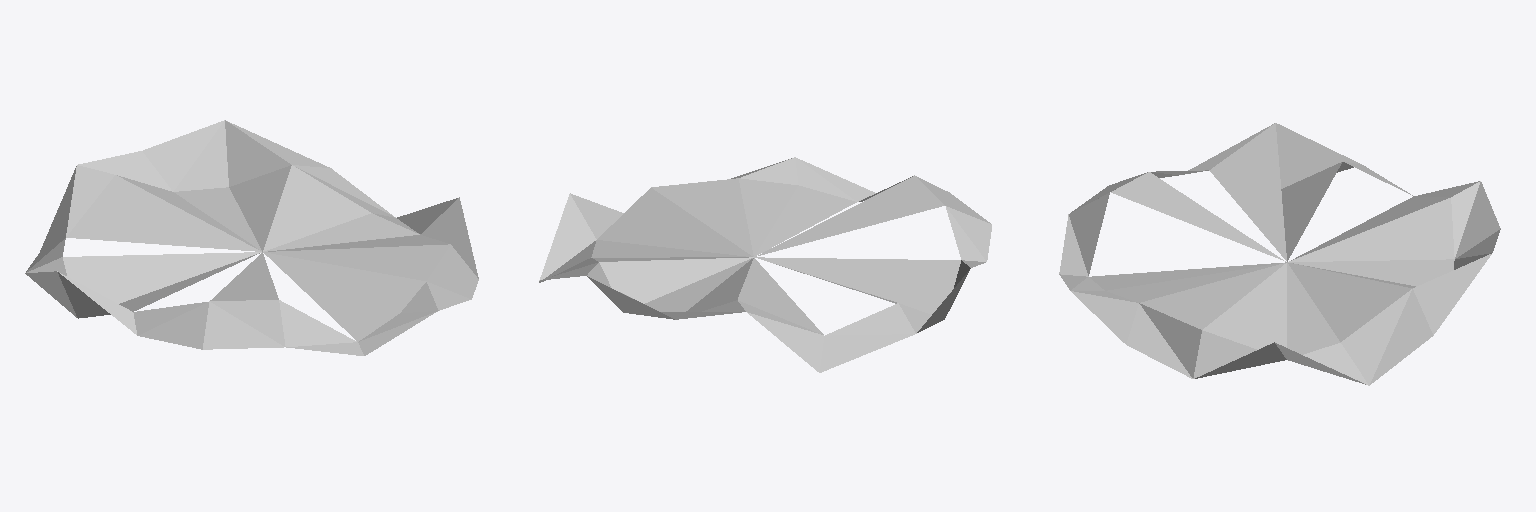
Rendered from Circle Gaps soft.obj.
The picture shows the model from 3 angles: view 1: azimuth 30°, elevation 25°; view 2: azimuth 150°, elevation 25°; view 3: azimuth 270°, elevation 25°; orthographic projection.
Visible parts, largest first — view 1: Cylinder2; view 2: Cylinder2; view 3: Cylinder2.
Part boxes in pixels (x1,y1,x2,y2): Cylinder2: (25,120,478,355); Cylinder2: (539,157,991,372); Cylinder2: (1059,123,1500,385).
Bounding box in the file's own units: 2.03 × 0.3838 × 1.94.